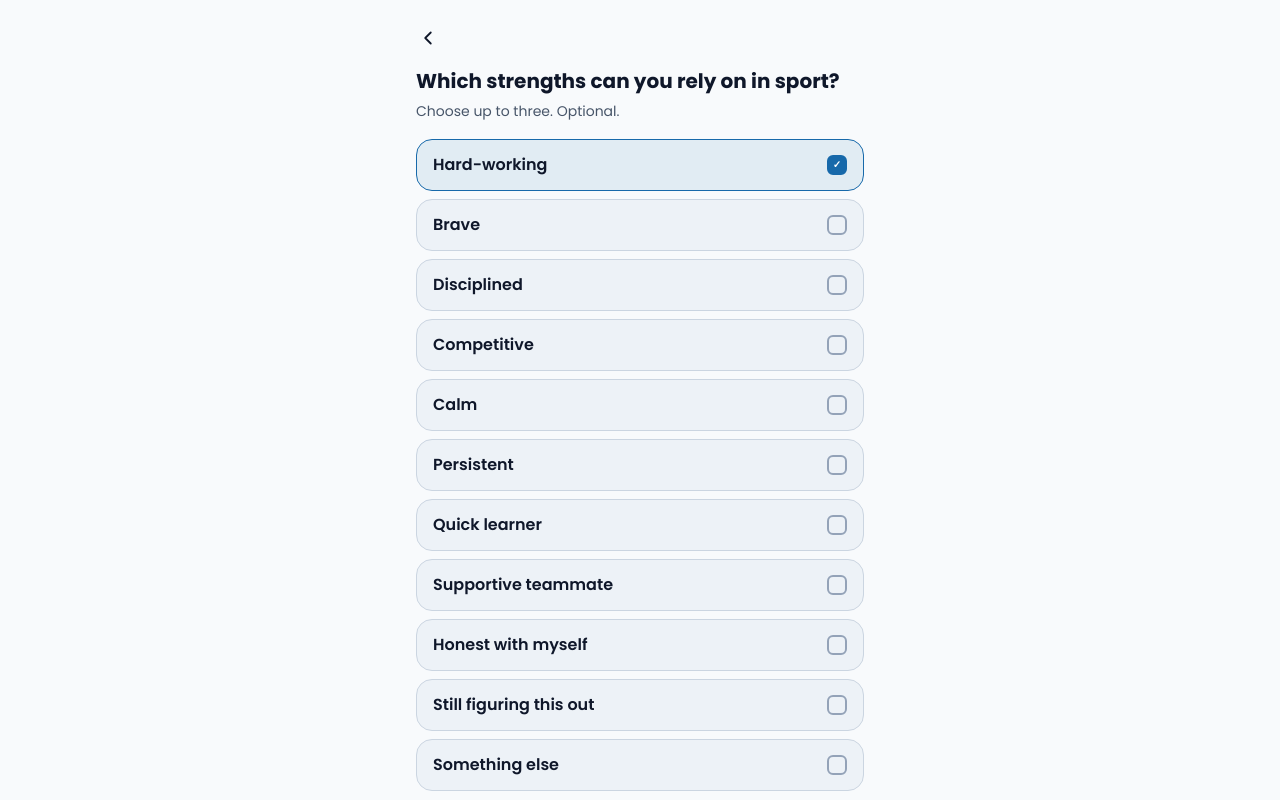
Test: a scoped edit saves straight from its last question › there is no old-values → new-values review screen anywhere in the flow
Click the checkbox labelled "Brave" at (457, 224), box [416, 199, 864, 251]
(page scrolled)
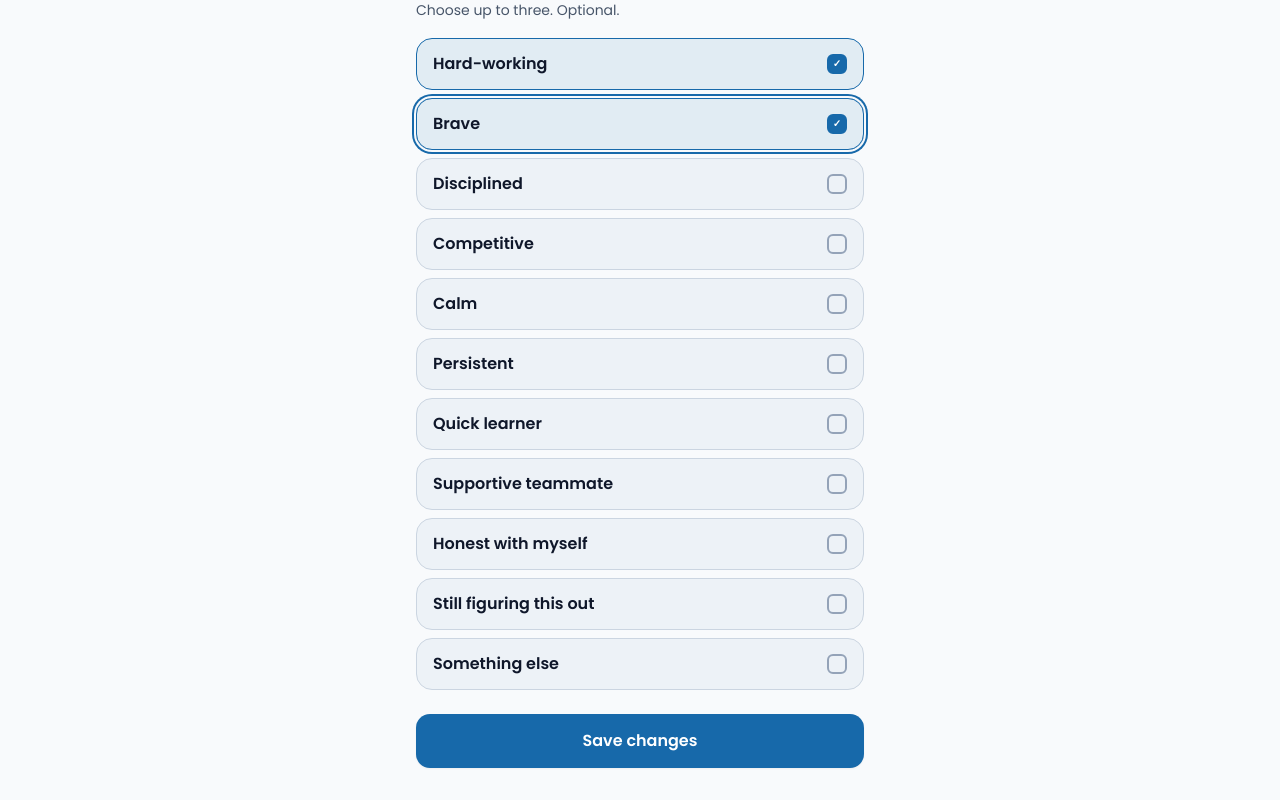
Click the button "Save changes" at (640, 741), box [416, 714, 864, 768]
(page scrolled)
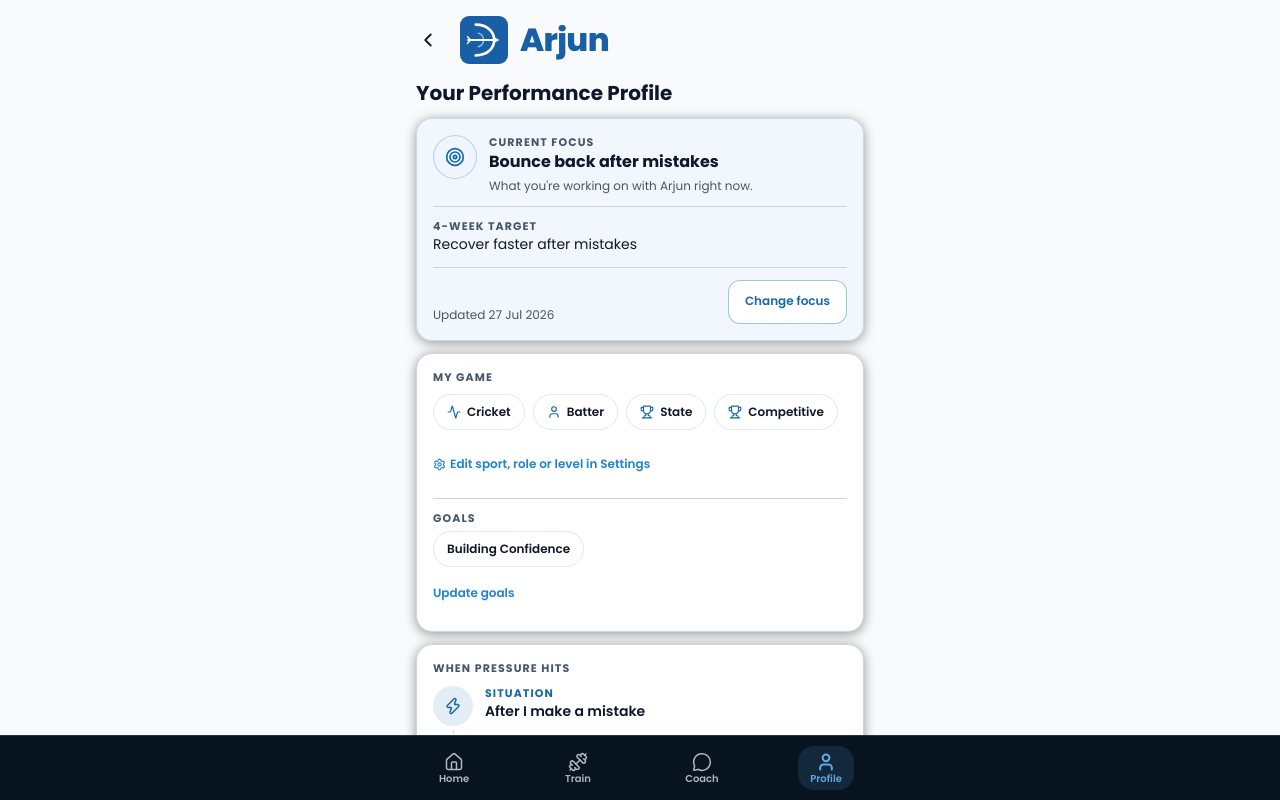
Check: the heading "Your Performance Profile" is shown, box [416, 79, 672, 107]
